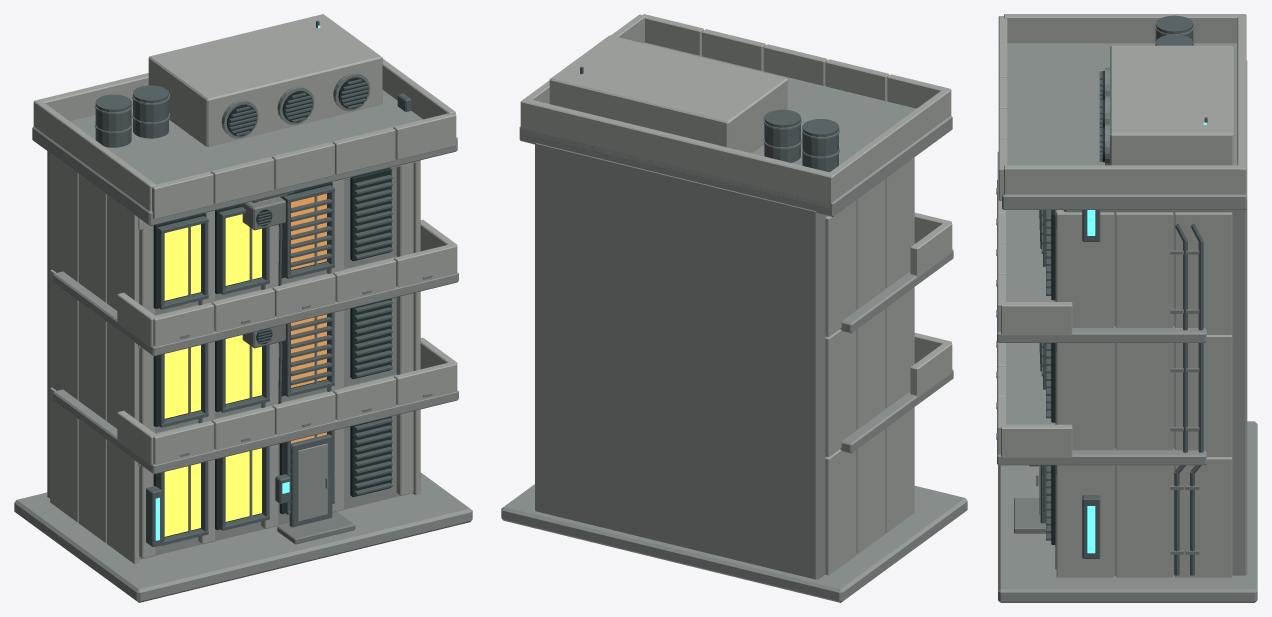
File: oracle.glb
3 renders of one model, left to right at view 1: azimuth 30°, elevation 25°; view 2: azimuth 150°, elevation 25°; view 3: azimuth 270°, elevation 25°, orthographic. The views are drawn at different scales.
Visible parts, largest first — view 1: oracle_concrete, oracle_concrete_edge, oracle_steel, oracle_amber, oracle_glass, oracle_steel_trim, oracle_amber_dim; view 2: oracle_concrete_edge, oracle_concrete, oracle_steel; view 3: oracle_concrete, oracle_concrete_edge, oracle_steel, oracle_steel_trim, oracle_glass, oracle_cyan.
Boxes of the visible parts, <box> form: oracle_concrete: <box>33,14,457,563</box>; oracle_concrete_edge: <box>14,90,472,602</box>; oracle_steel: <box>95,20,411,546</box>; oracle_amber: <box>164,195,286,536</box>; oracle_glass: <box>153,77,391,537</box>; oracle_steel_trim: <box>94,72,432,544</box>; oracle_amber_dim: <box>291,193,326,443</box>; oracle_concrete_edge: <box>501,42,967,602</box>; oracle_concrete: <box>520,14,952,575</box>; oracle_steel: <box>580,66,838,171</box>; oracle_concrete: <box>997,14,1246,577</box>; oracle_concrete_edge: <box>997,43,1257,602</box>; oracle_steel: <box>1029,15,1207,575</box>; oracle_steel_trim: <box>996,24,1199,554</box>; oracle_glass: <box>1051,71,1104,544</box>; oracle_cyan: <box>1087,122,1207,553</box>.
Bounding box in the file's own units: 6.2 × 7.79 × 4.02.
